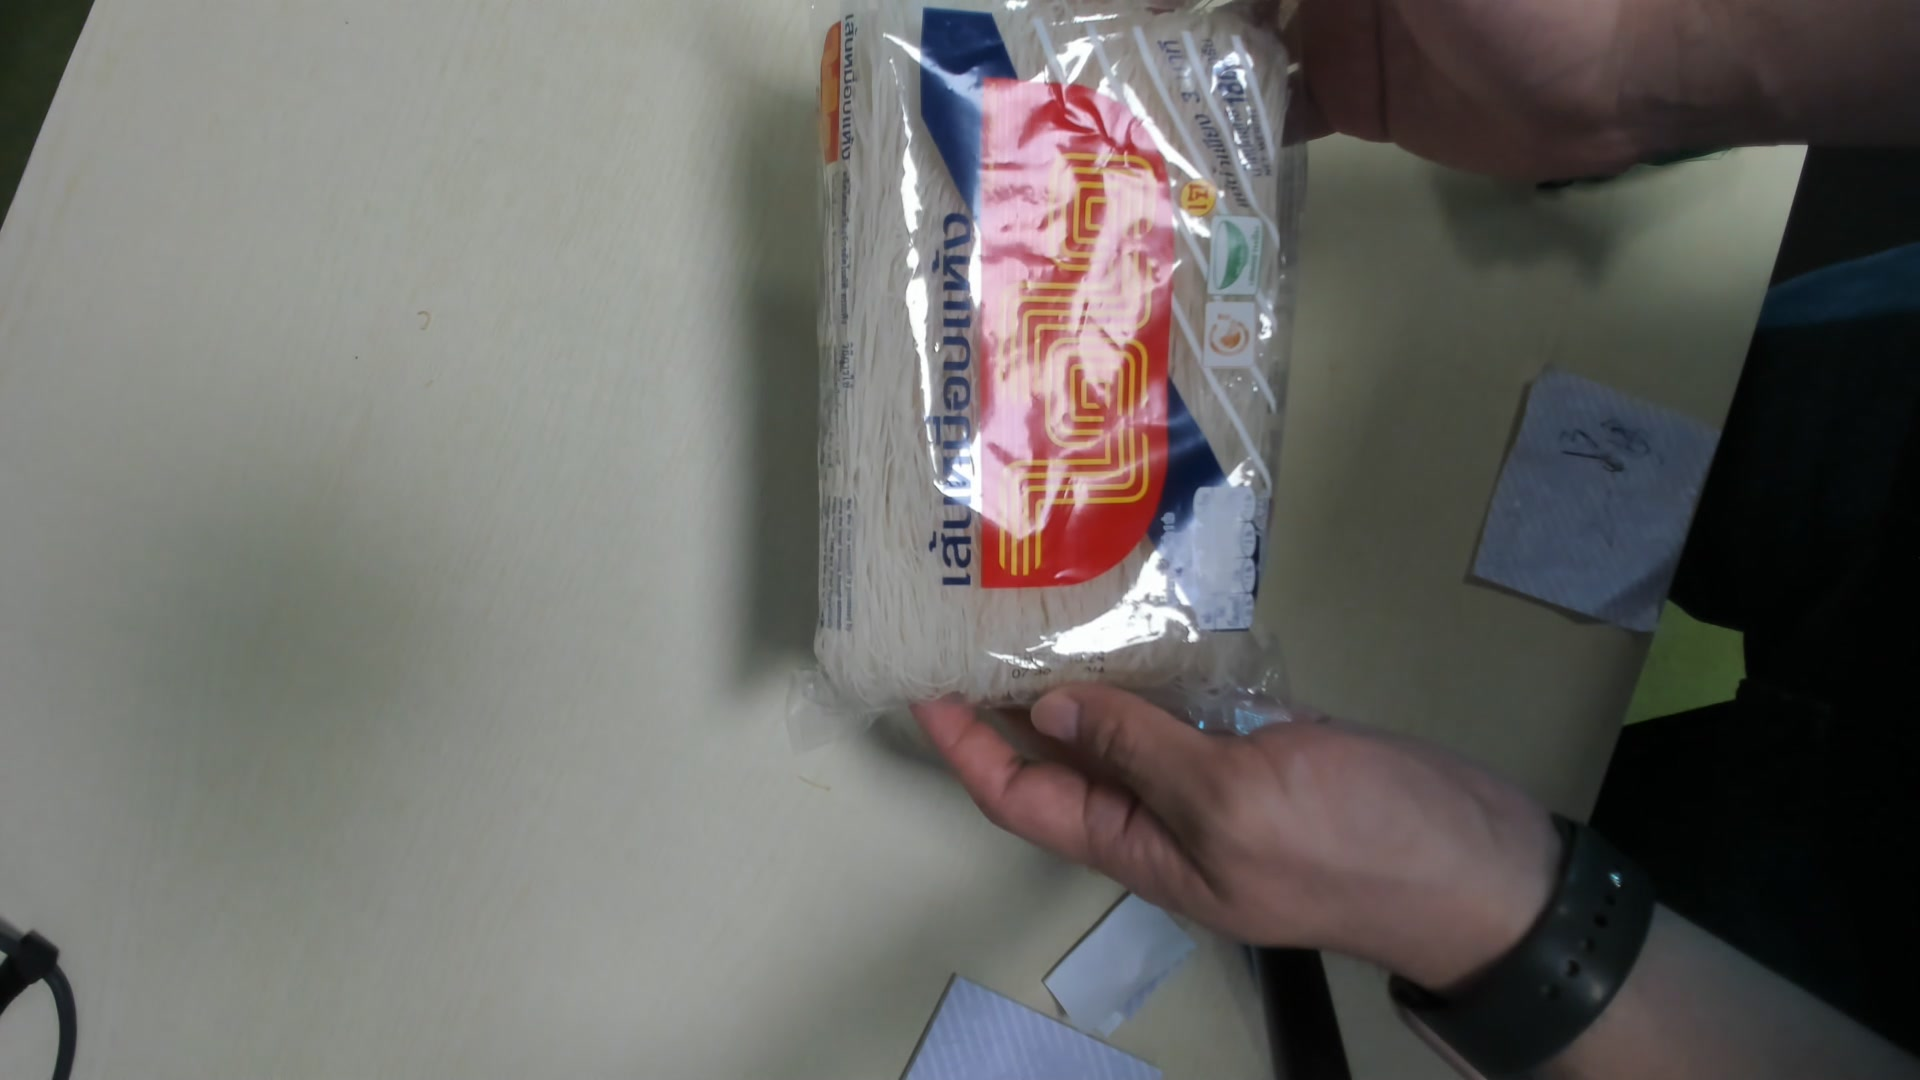BeeHoonVermicelli_100-199g_NonHalal_NonHealthy: (816, 15, 1294, 723)
